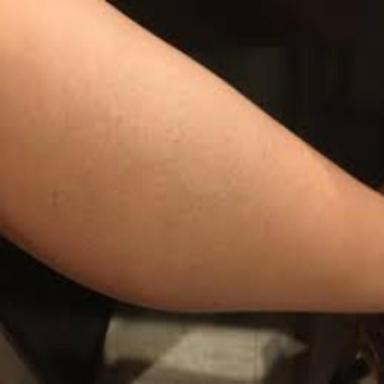normal skin: (0, 1, 384, 312)
